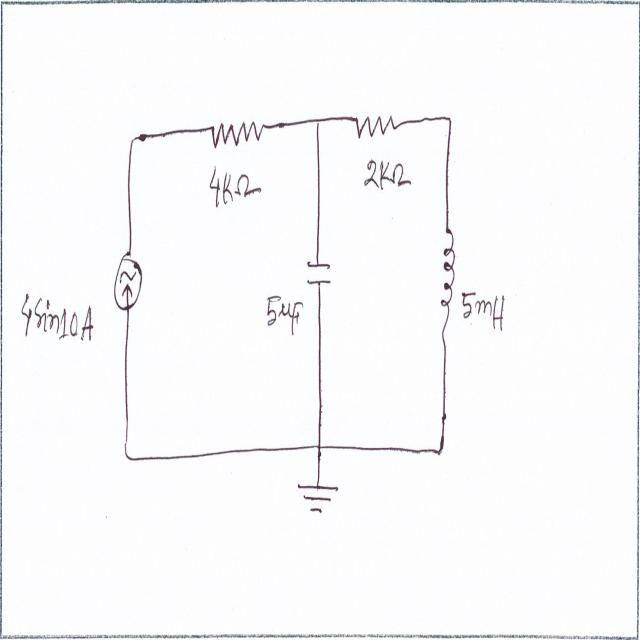capacitor: (306, 258, 334, 290)
current_source: (112, 246, 144, 322)
ground: (293, 474, 344, 526)
inductor: (439, 226, 455, 337)
resistor: (208, 110, 266, 155), (352, 114, 399, 146)
